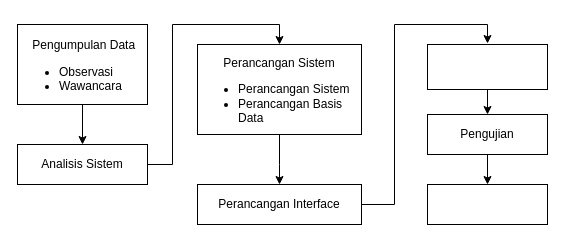
The diagram is 565 pixels wide and 242 high, and some of its shapes have lost their labels. Each missing label, with the box of its shape:
Implementasi: (426, 184, 548, 224)
Pembuatan Program: (426, 44, 548, 90)
